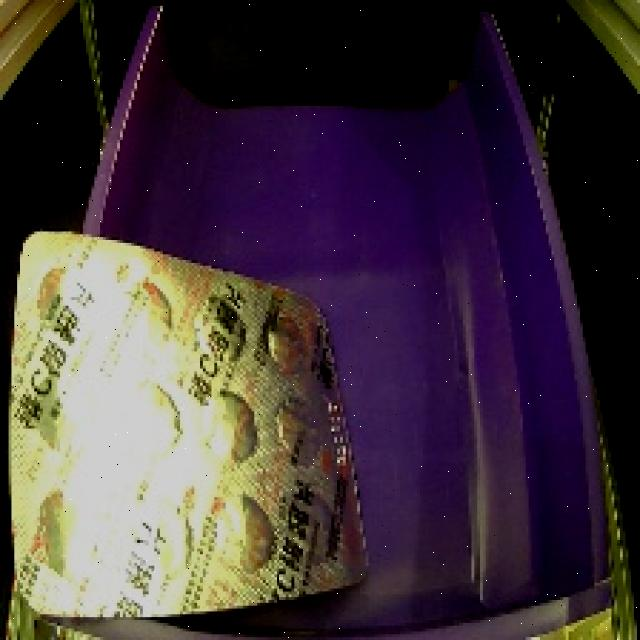med_plate: (0, 210, 384, 640)
